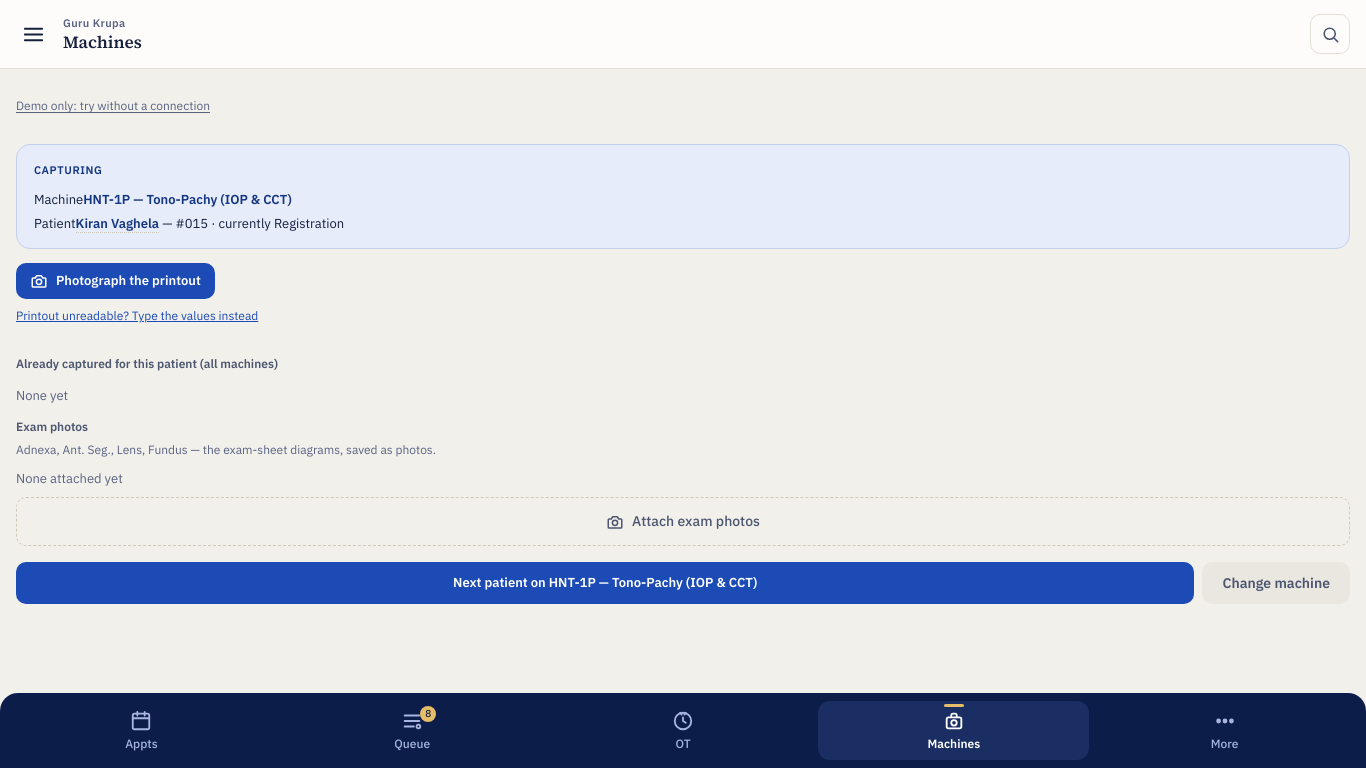
Test: Machines screen (F5) — machine first, then the patient › /machines?visit=<id> with a remembered machine goes straight to the capture for that patient
This screenshot has width=1366, height=768.
Expected: the element with test id "capture-machine" shows "HNT-1P", [83, 191, 292, 208]
Expected: the link "Kiran Vaghela" is shown, [76, 215, 159, 233]
# "Next patient" is a free pick again (the link is used once)
Step 1. Click the button with test id "next-patient" → (605, 583), box [16, 562, 1194, 604]
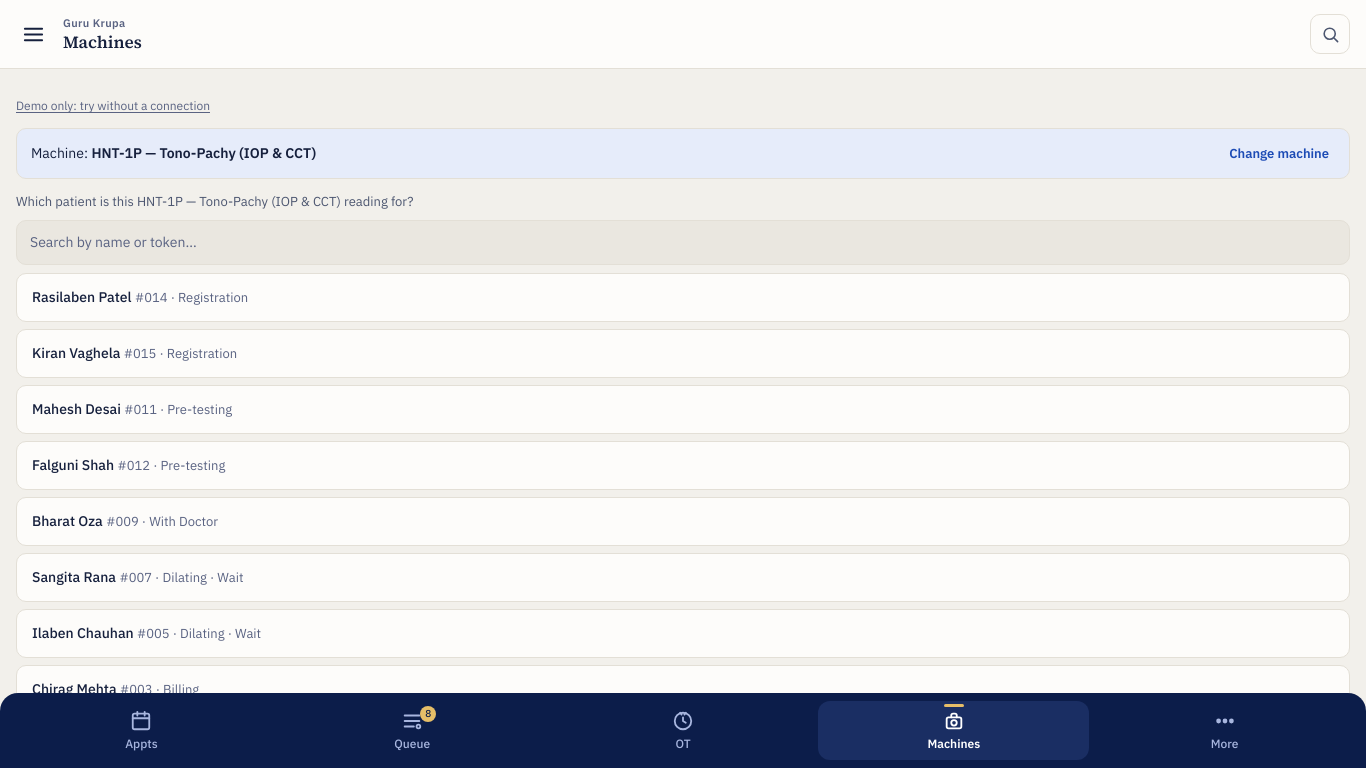
Result: the field with placeholder "Search by name or token…" is shown at [16, 220, 1350, 265]
